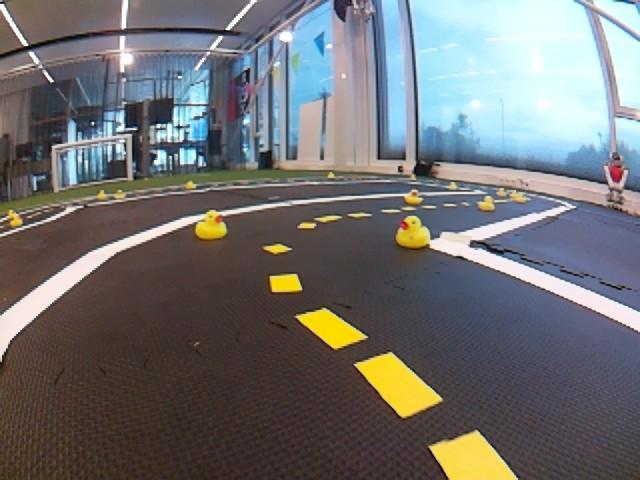Duckies: (397, 217, 430, 249), (196, 210, 227, 239), (404, 189, 423, 204), (479, 196, 496, 211), (510, 191, 527, 204), (11, 214, 22, 226), (114, 190, 126, 199), (97, 190, 107, 200), (496, 188, 507, 196), (7, 209, 16, 218), (187, 181, 196, 189), (447, 182, 457, 189), (327, 172, 334, 178), (410, 174, 416, 179)
